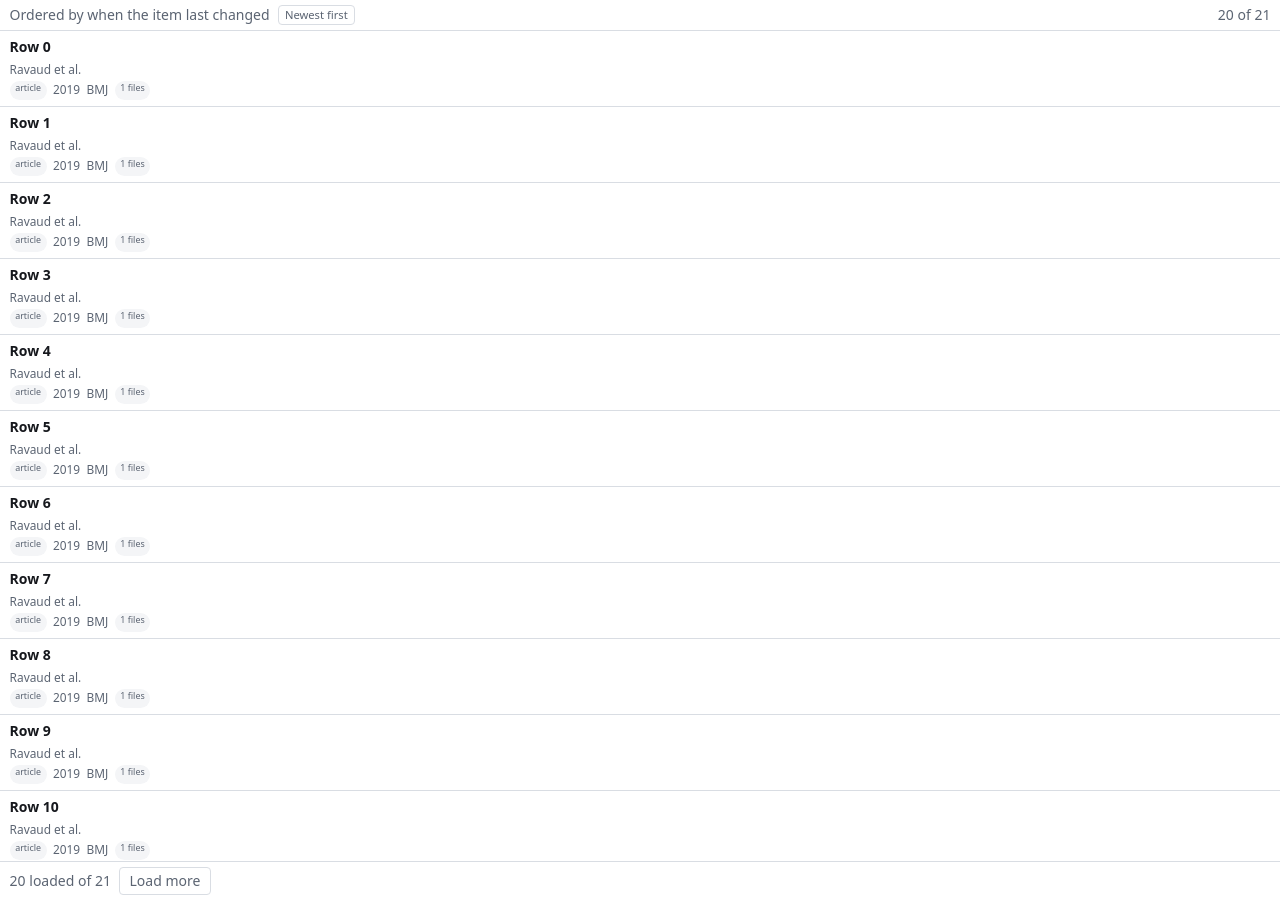
the item list › offers the next page as a button once the window is full
Expected: the text "Row 0" is shown, [10,37,51,56]
Click the button "Load more" at (165, 881), box [119,866,211,895]
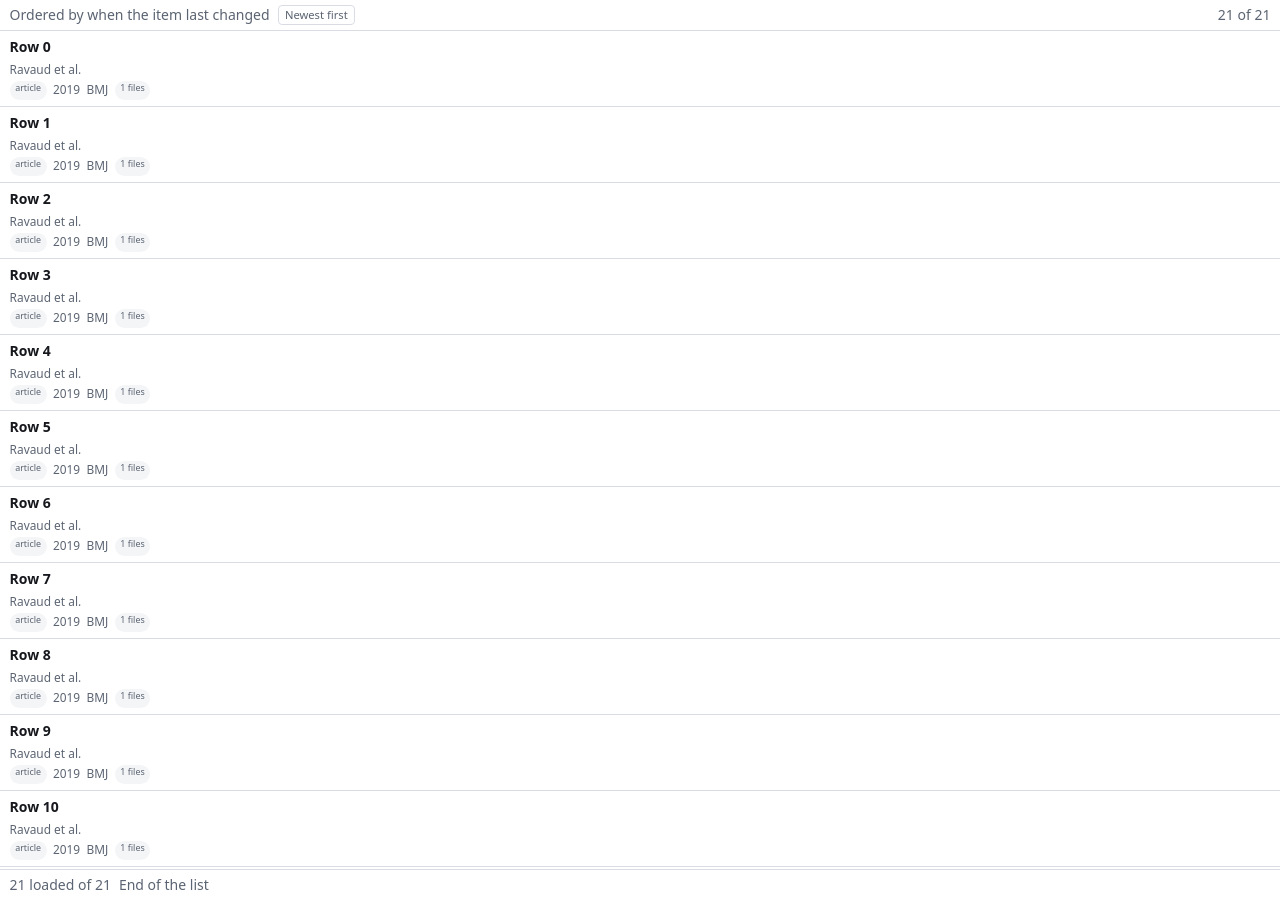
Result: the text "21 of 21" is shown at [1218,5,1270,25]
